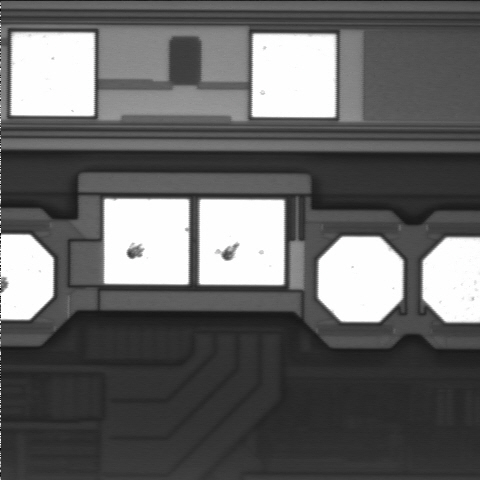pad: (199, 199, 284, 285), (104, 199, 189, 284), (318, 237, 403, 322), (252, 34, 336, 117), (11, 33, 94, 116)
